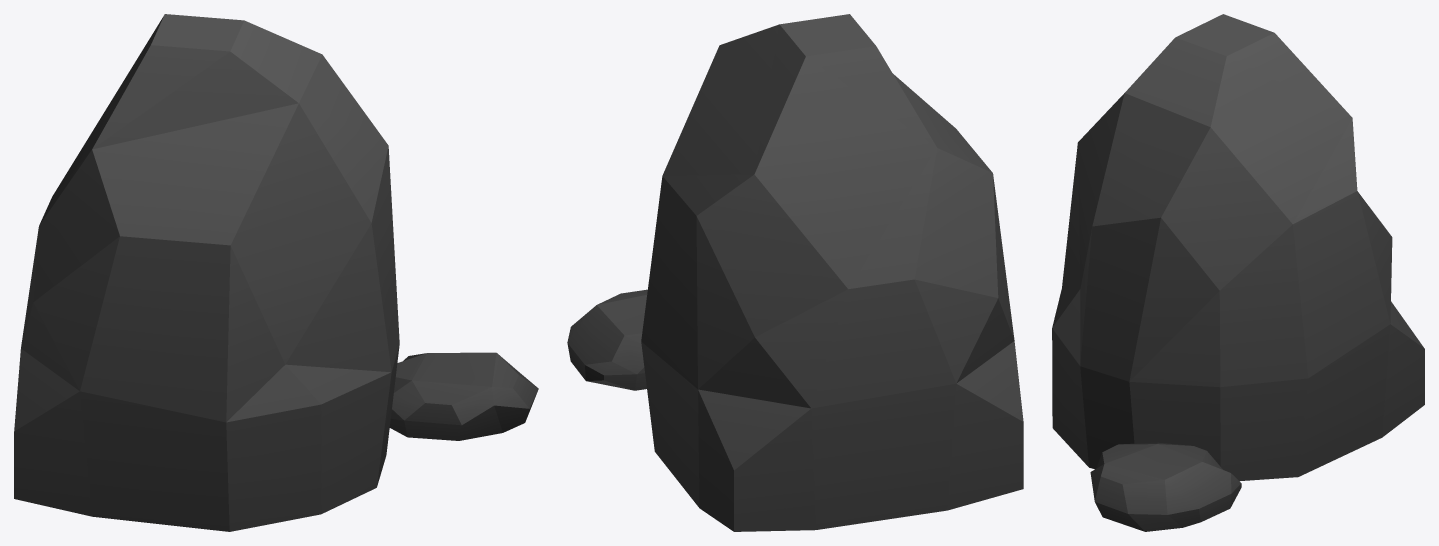
Rendered from batu.fbx.
3 views of the same model, side by side, from view 1: azimuth 30°, elevation 25°; view 2: azimuth 150°, elevation 25°; view 3: azimuth 270°, elevation 25° (orthographic). The views are drawn at different scales.
Visible parts, largest first — view 1: Batu.001, Batu.002; view 2: Batu.001, Batu.002; view 3: Batu.001, Batu.002.
Part boxes in pixels (x1,y1,x2,y2): Batu.001: (14, 14, 399, 531); Batu.002: (389, 352, 538, 440); Batu.001: (641, 14, 1023, 531); Batu.002: (567, 289, 647, 390); Batu.001: (1052, 14, 1424, 481); Batu.002: (1090, 442, 1241, 531).
Size of the model in its own units: 51.62 by 45.97 by 38.12.
